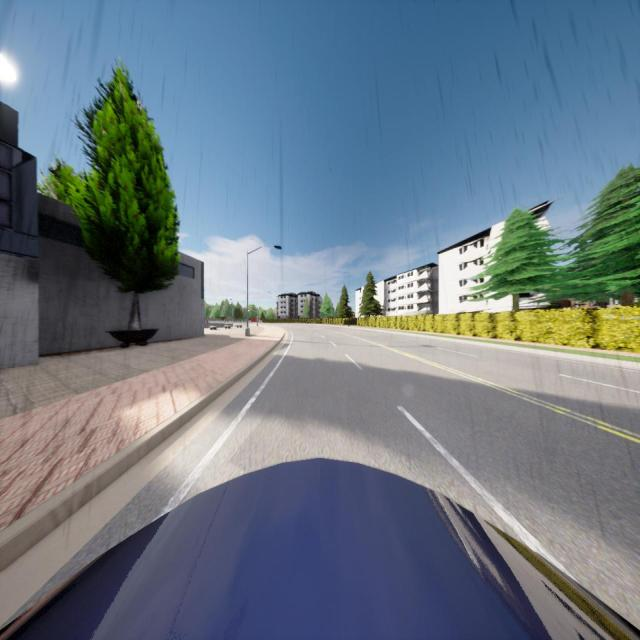Vehicle: (0, 458, 640, 640), (250, 318, 258, 322)
